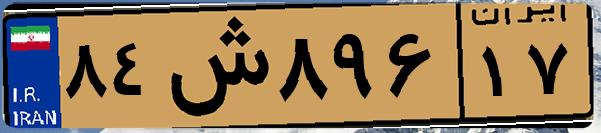1: (475, 38, 525, 113)
4: (110, 28, 158, 98)
6: (385, 28, 445, 110)
7: (525, 38, 570, 115)
8: (270, 28, 330, 110), (57, 26, 110, 100)
9: (330, 28, 385, 110)
ش: (158, 12, 270, 120)
